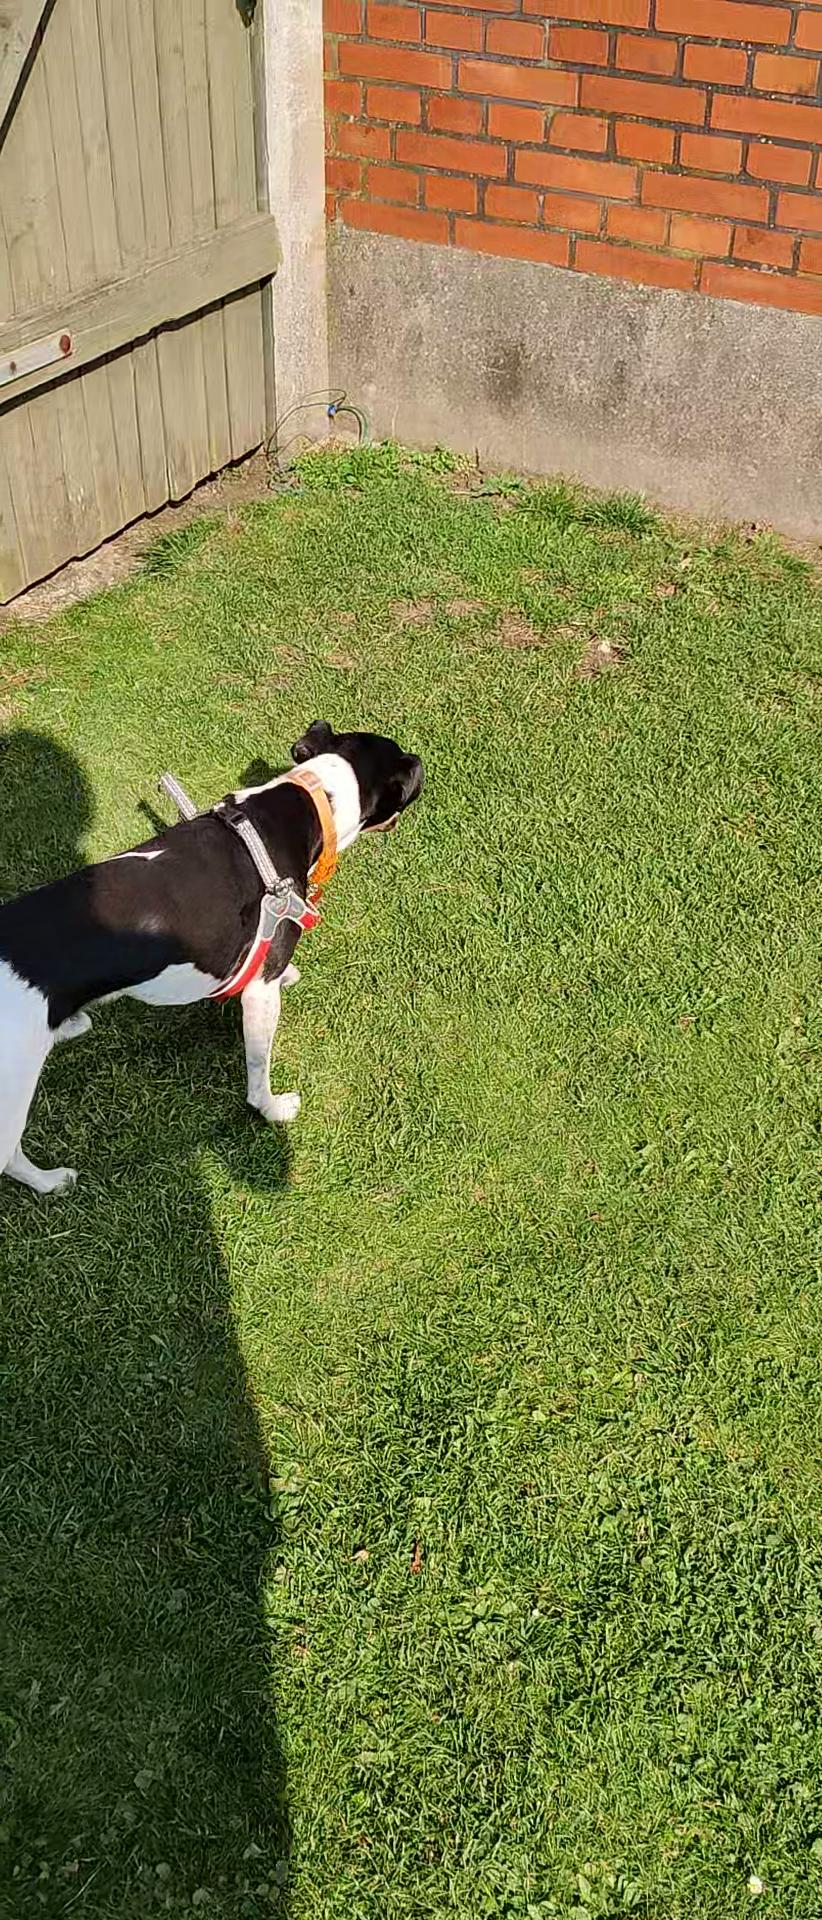Dog: (0, 709, 440, 1201)
